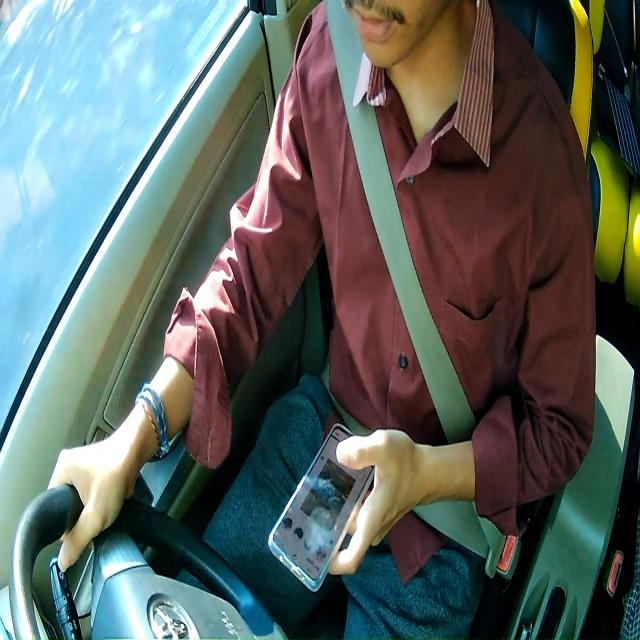phone: (268, 420, 376, 591)
